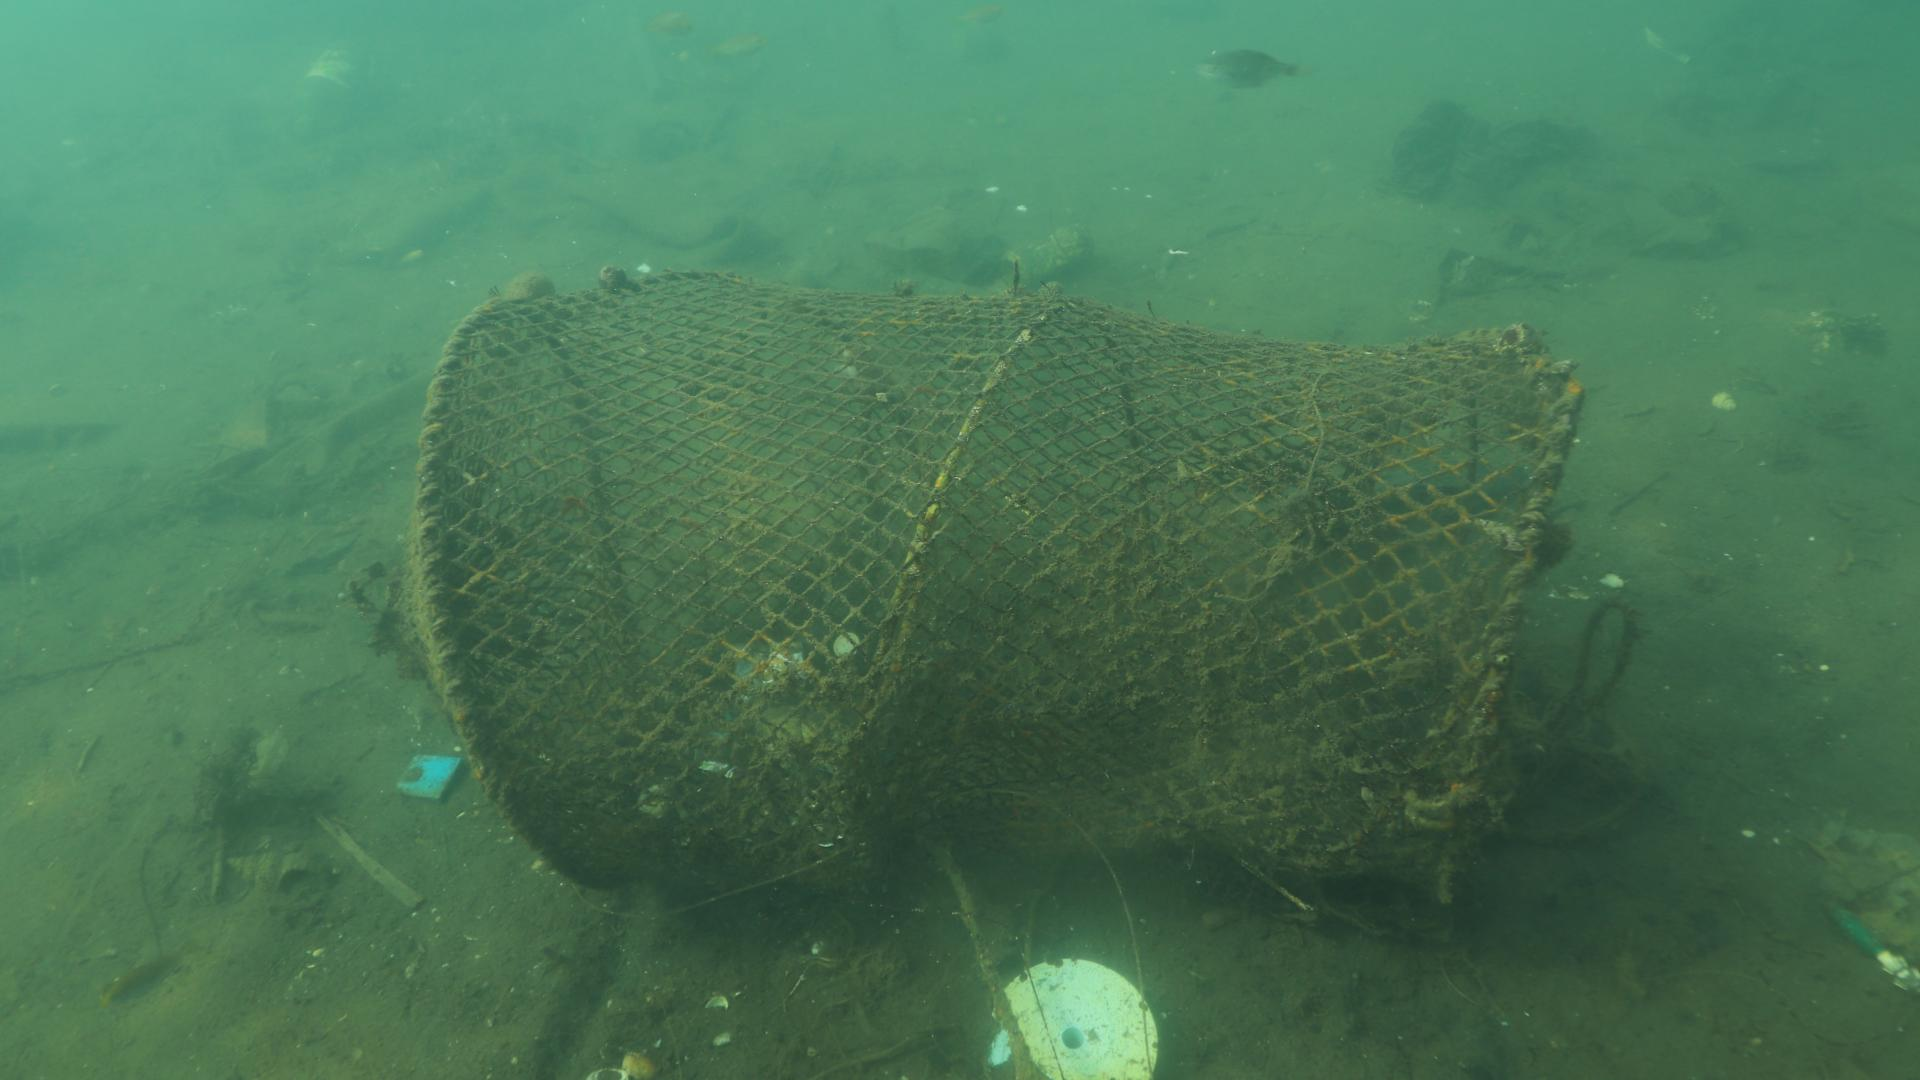spring fish trap: (406, 266, 1584, 902)
